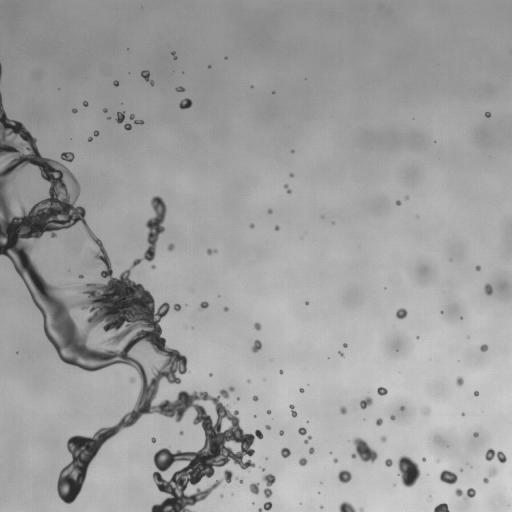droplet: (398, 456, 420, 487), (351, 437, 377, 463), (485, 448, 506, 463), (439, 470, 457, 484), (339, 501, 356, 511), (338, 470, 351, 483), (360, 396, 372, 409), (60, 152, 74, 162), (179, 98, 191, 109), (251, 339, 261, 352), (396, 308, 407, 319), (434, 503, 449, 511), (249, 483, 259, 494), (116, 111, 125, 123), (484, 283, 492, 295), (199, 301, 208, 310), (281, 448, 290, 457), (377, 387, 387, 395), (384, 458, 392, 467), (456, 376, 463, 386), (298, 427, 306, 435), (299, 457, 307, 465), (207, 248, 216, 255), (173, 303, 180, 311), (254, 322, 261, 330), (124, 123, 131, 130), (167, 243, 174, 250), (480, 344, 487, 351), (423, 407, 430, 414), (340, 406, 346, 414), (376, 418, 382, 425), (176, 86, 184, 91), (309, 447, 314, 454), (475, 265, 480, 271), (78, 273, 84, 278), (253, 395, 258, 401), (434, 435, 439, 441), (381, 436, 386, 442), (113, 81, 118, 86), (83, 101, 88, 106), (72, 108, 77, 113), (485, 112, 490, 117), (396, 200, 401, 205), (390, 415, 395, 420), (473, 432, 478, 437), (94, 130, 98, 136), (339, 351, 343, 356), (130, 378, 135, 382), (474, 391, 478, 396), (265, 425, 270, 429), (179, 430, 183, 435), (279, 430, 283, 435), (151, 437, 155, 442), (103, 108, 107, 112), (88, 137, 92, 141), (289, 173, 293, 177), (268, 209, 272, 213), (250, 224, 254, 228), (275, 226, 279, 230), (224, 307, 228, 311), (343, 343, 347, 347), (299, 388, 303, 392), (400, 406, 404, 410), (333, 458, 337, 462), (358, 508, 363, 511), (151, 265, 155, 268), (267, 410, 270, 414), (422, 457, 425, 461), (279, 370, 282, 373), (291, 150, 294, 152), (305, 302, 308, 304), (247, 380, 250, 382), (462, 412, 464, 415), (406, 196, 408, 198), (67, 285, 69, 287), (262, 468, 264, 470)
ligament: (0, 92, 263, 511), (262, 474, 275, 497), (483, 467, 497, 483), (455, 488, 475, 498), (141, 70, 154, 85), (130, 114, 143, 124), (258, 502, 271, 511), (289, 404, 296, 417), (284, 184, 291, 193), (304, 435, 311, 443), (171, 51, 176, 59), (237, 478, 243, 483), (0, 63, 1, 82)
